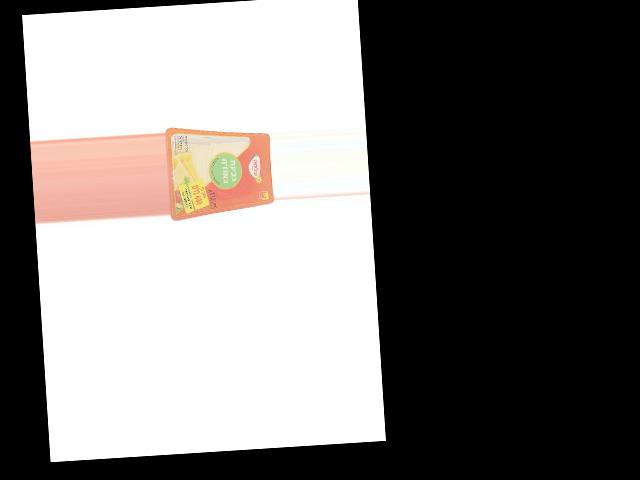cheese: (164, 121, 274, 221)
